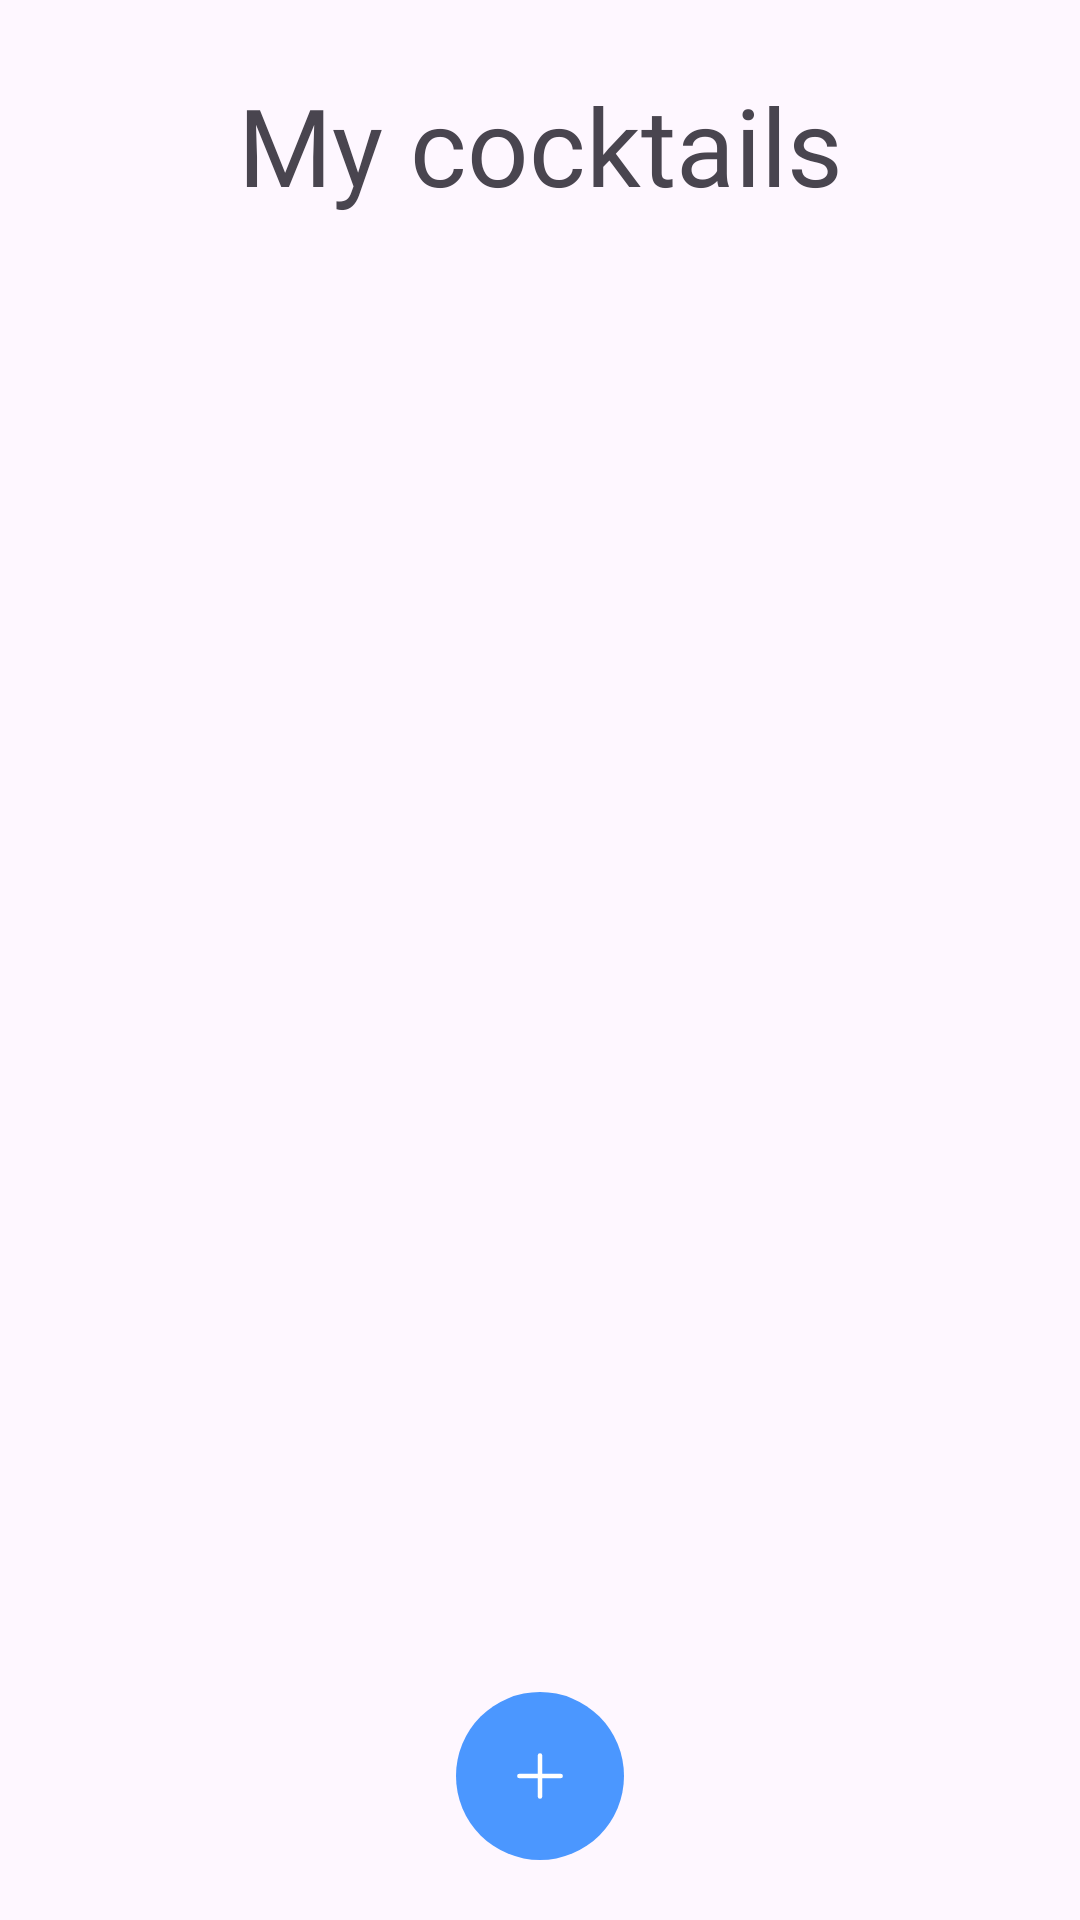

Where to tap for icons on this 1080×1920 app screen, as [x,y]:
add: [540,1776]
